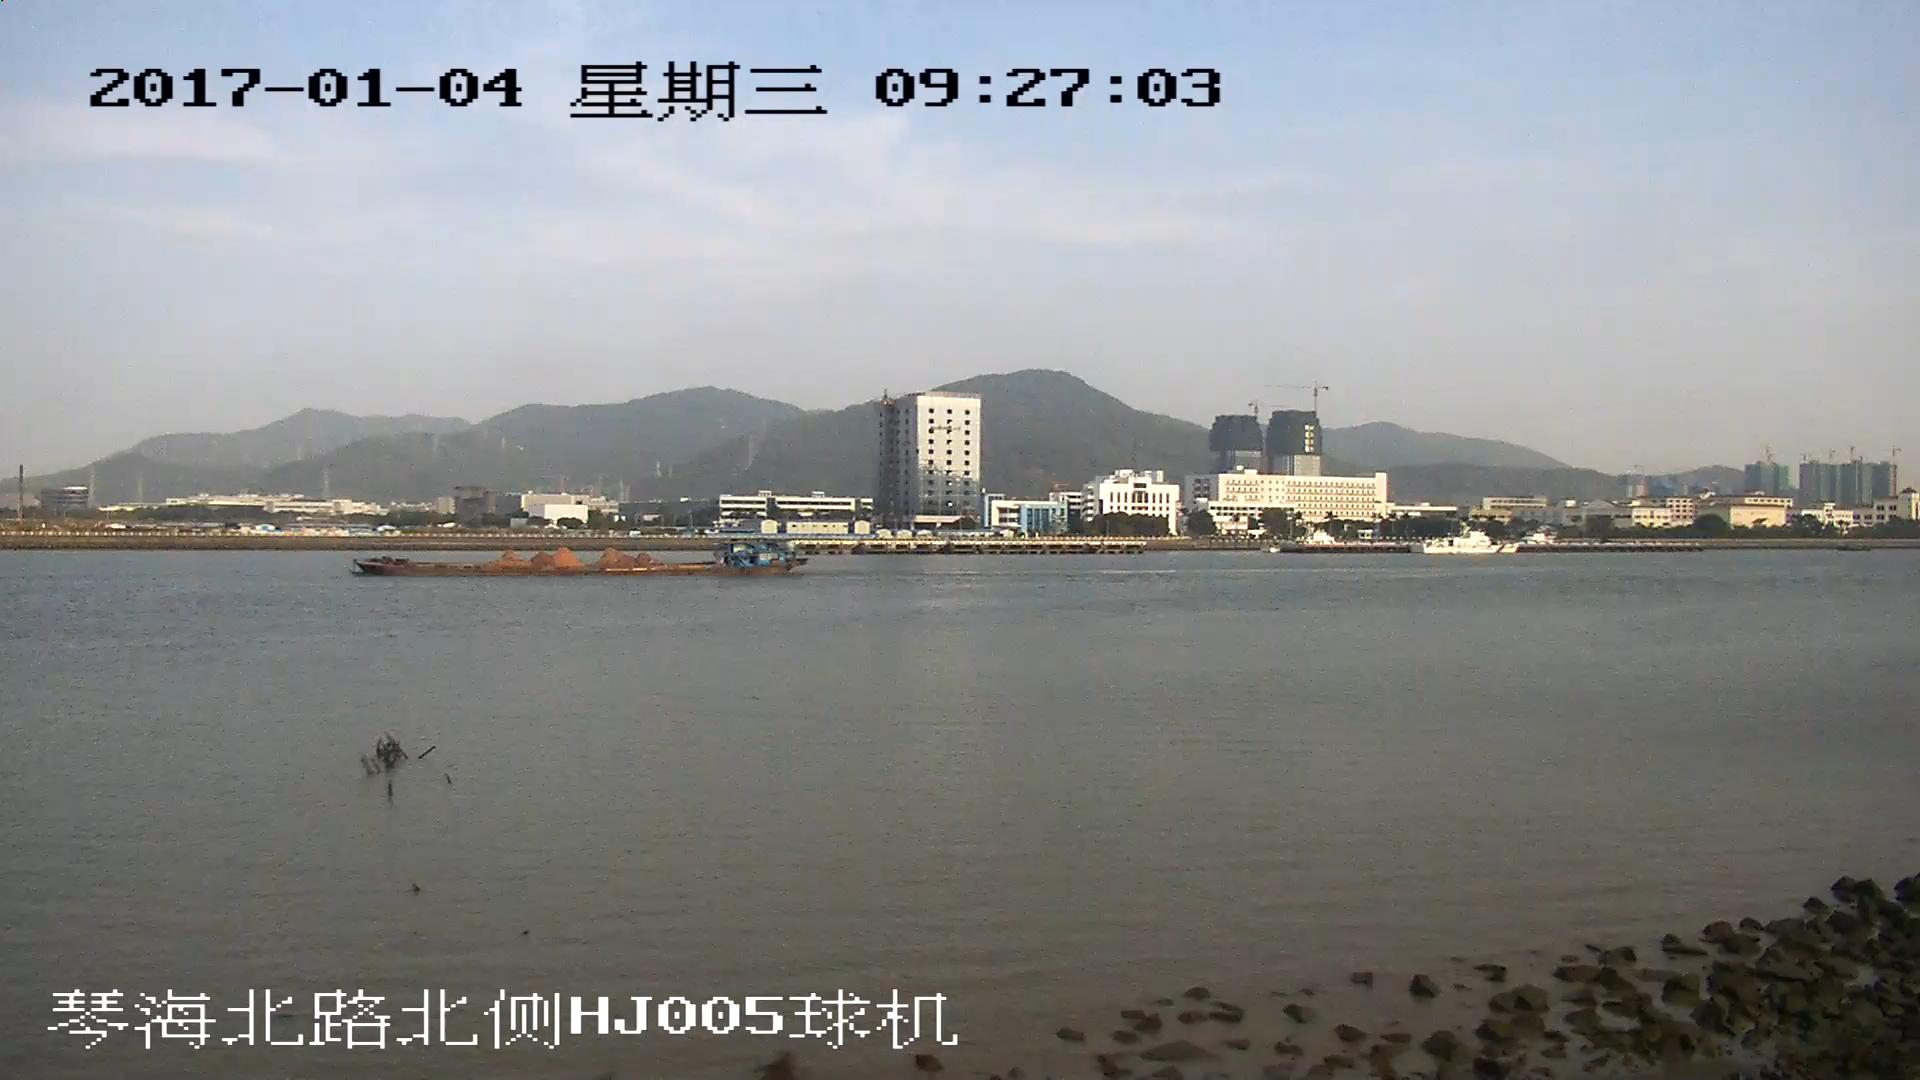ore carrier: (355, 541, 803, 578)
